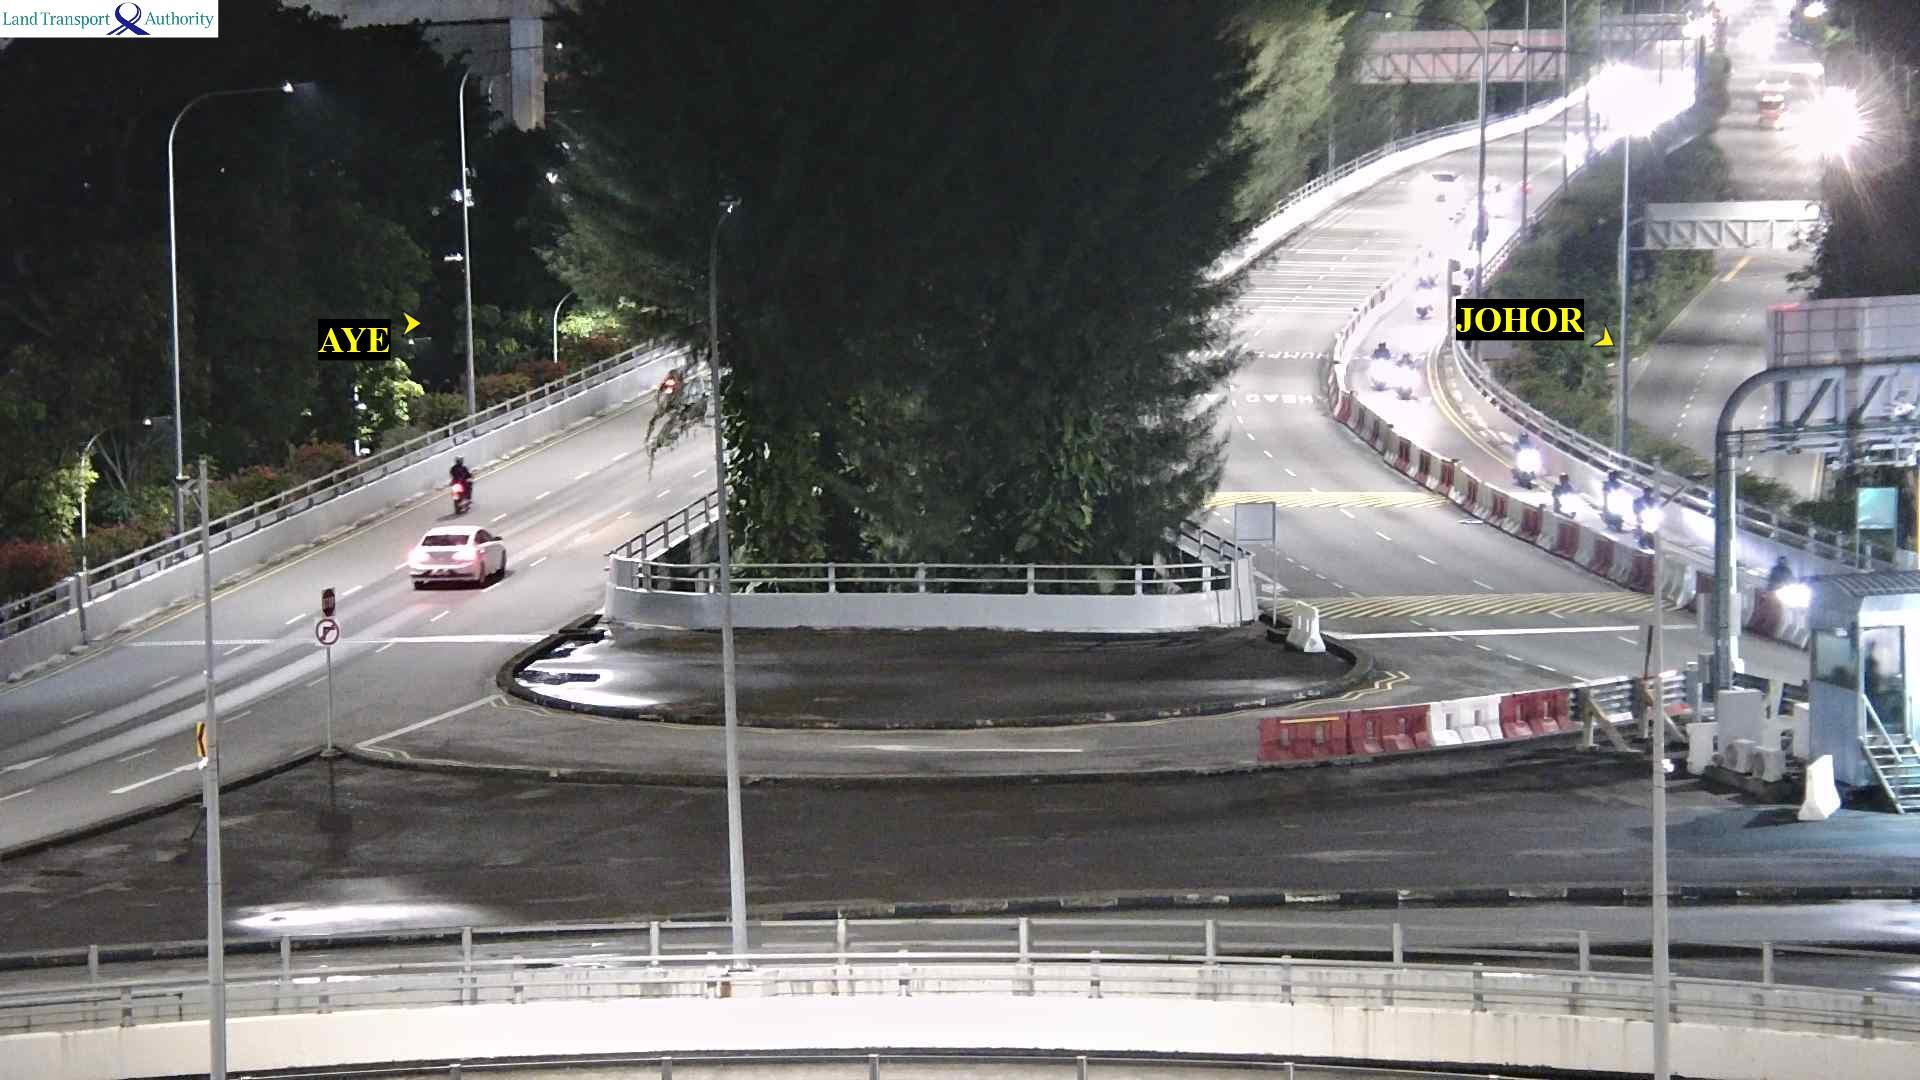vehicle-secondlink-johor: (1402, 277, 1432, 336), (1408, 172, 1460, 202), (1555, 472, 1584, 519), (1514, 426, 1537, 481), (1601, 471, 1623, 524), (1371, 343, 1392, 396), (1395, 348, 1415, 399), (1633, 484, 1655, 530)
vehicle-secondlink-singapore: (409, 525, 510, 593), (443, 459, 476, 514)
